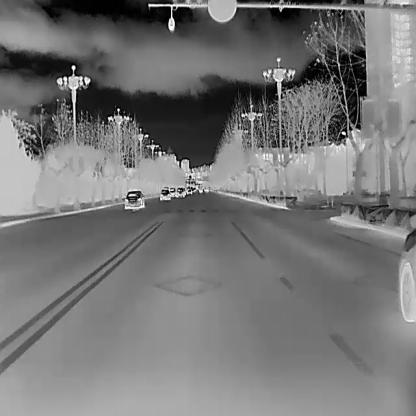car: (124, 190, 144, 208), (159, 187, 170, 200), (168, 186, 176, 197), (176, 187, 184, 197), (186, 189, 192, 194)
